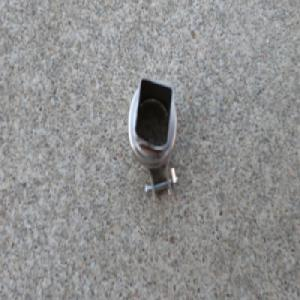MetalPart: (125, 76, 180, 210)
